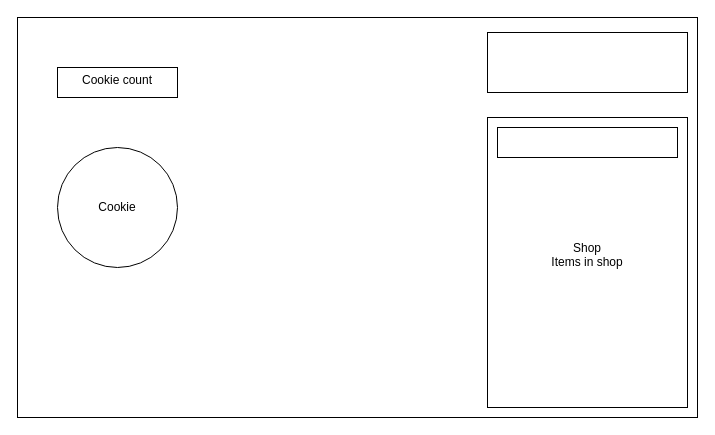
The diagram is 715 pixels wide and 435 high, and some of its shapes have lost their labels. The shapes that lost their labels are listed below. From the top down, each one's centre as x and y in pixels, then its label:
At point (587, 62): "Text field: Shop".
At point (587, 142): "Bought upgrades".
